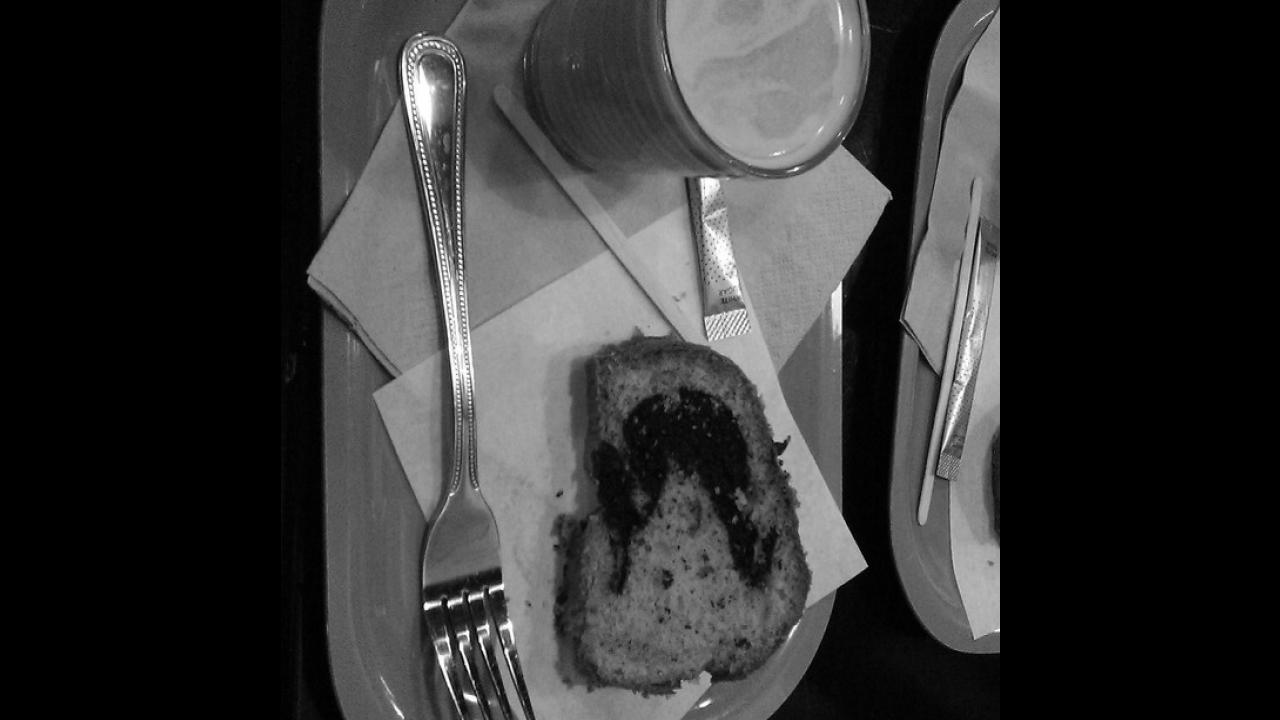fork: (396, 30, 546, 720)
